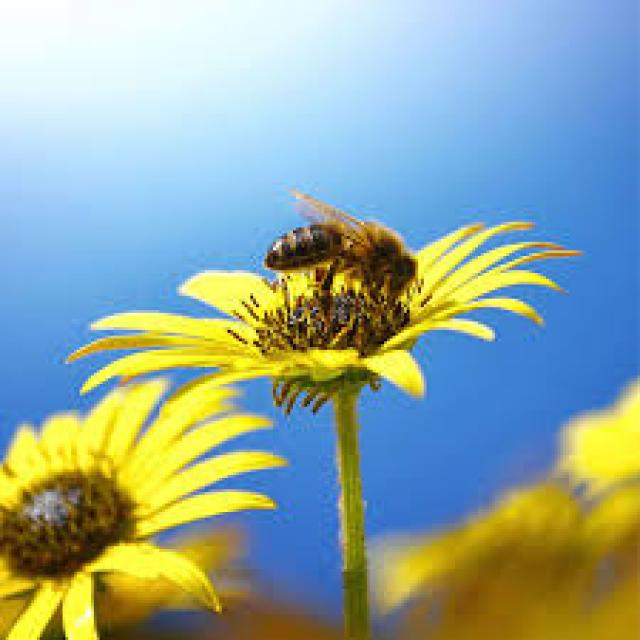Bees: (264, 187, 420, 315)
